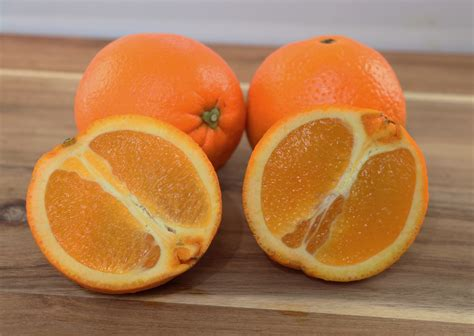orange: (68, 28, 248, 178), (238, 30, 408, 152)
